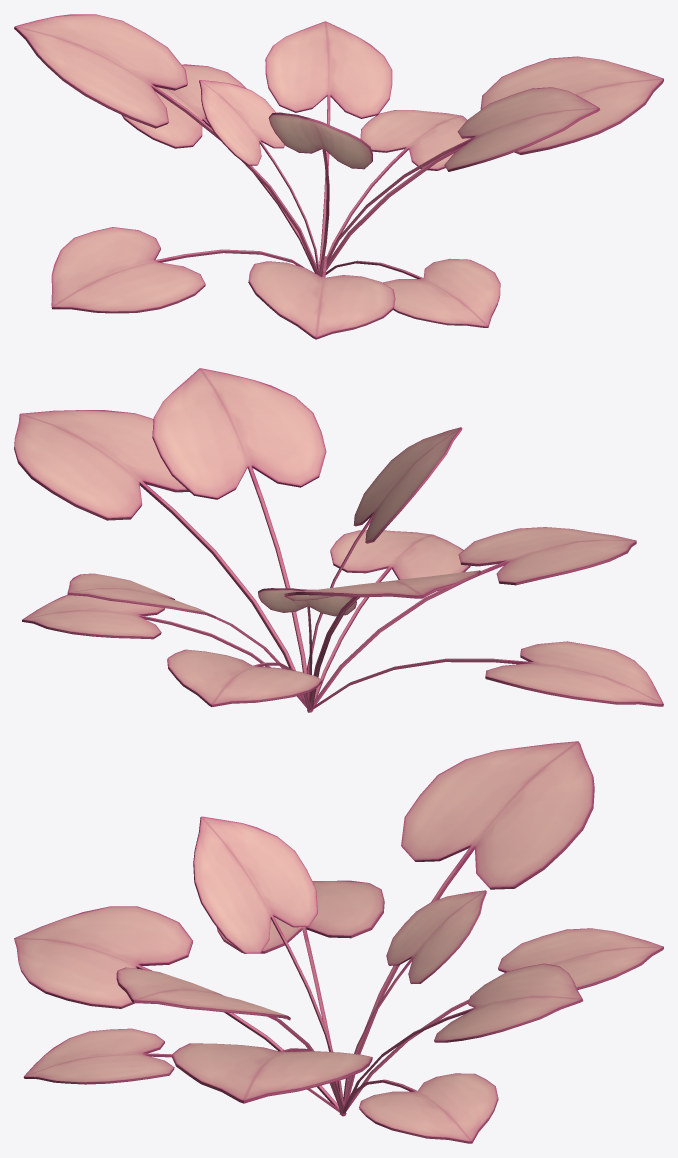
File: plant2_pink.fbx
3 renders of one model, top to bottom at view 1: azimuth 30°, elevation 25°; view 2: azimuth 150°, elevation 25°; view 3: azimuth 270°, elevation 25°, orthographic. The views are drawn at different scales.
Visible parts, largest first — view 1: pPlane381, pPlane386, pPlane387, pPlane385, pPlane390, pPlane388, pPlane391, pPlane383, pPlane382, pPlane389, pPlane384; view 2: pPlane388, pPlane385, pPlane386, pPlane390, pPlane389, pPlane391, pPlane384, pPlane382, pPlane381, pPlane387, pPlane383; view 3: pPlane381, pPlane384, pPlane390, pPlane385, pPlane382, pPlane387, pPlane389, pPlane391, pPlane383, pPlane386, pPlane388.
Part boxes in pixels (x1,y1,x2,y2): pPlane381: (14, 14, 318, 274); pPlane386: (51, 227, 304, 313); pPlane387: (265, 21, 392, 268); pPlane385: (326, 56, 663, 270); pPlane390: (248, 256, 395, 339); pPlane388: (327, 87, 599, 263); pPlane391: (321, 258, 500, 327); pPlane383: (199, 80, 319, 272); pPlane382: (327, 110, 470, 257); pPlane389: (121, 64, 315, 273); pPlane384: (268, 112, 372, 267); pPlane388: (152, 368, 326, 712); pPlane385: (14, 410, 313, 712); pPlane386: (311, 641, 663, 710); pPlane390: (310, 527, 636, 712); pPlane389: (167, 649, 322, 712); pPlane391: (314, 530, 470, 699); pPlane384: (307, 427, 462, 712); pPlane382: (22, 595, 307, 709); pPlane381: (284, 570, 480, 711); pPlane387: (67, 573, 306, 705); pPlane383: (258, 588, 356, 696); pPlane381: (339, 741, 594, 1115); pPlane384: (193, 816, 345, 1116); pPlane390: (14, 906, 342, 1116); pPlane385: (172, 1043, 372, 1113); pPlane382: (342, 1073, 498, 1143); pPlane387: (341, 963, 583, 1115); pPlane389: (346, 928, 663, 1111); pPlane391: (23, 1028, 341, 1113); pPlane383: (343, 890, 486, 1105); pPlane386: (216, 880, 384, 1114); pPlane388: (116, 967, 346, 1114).
Bounding box in the file's own units: 5.14 × 1.89 × 4.26.
